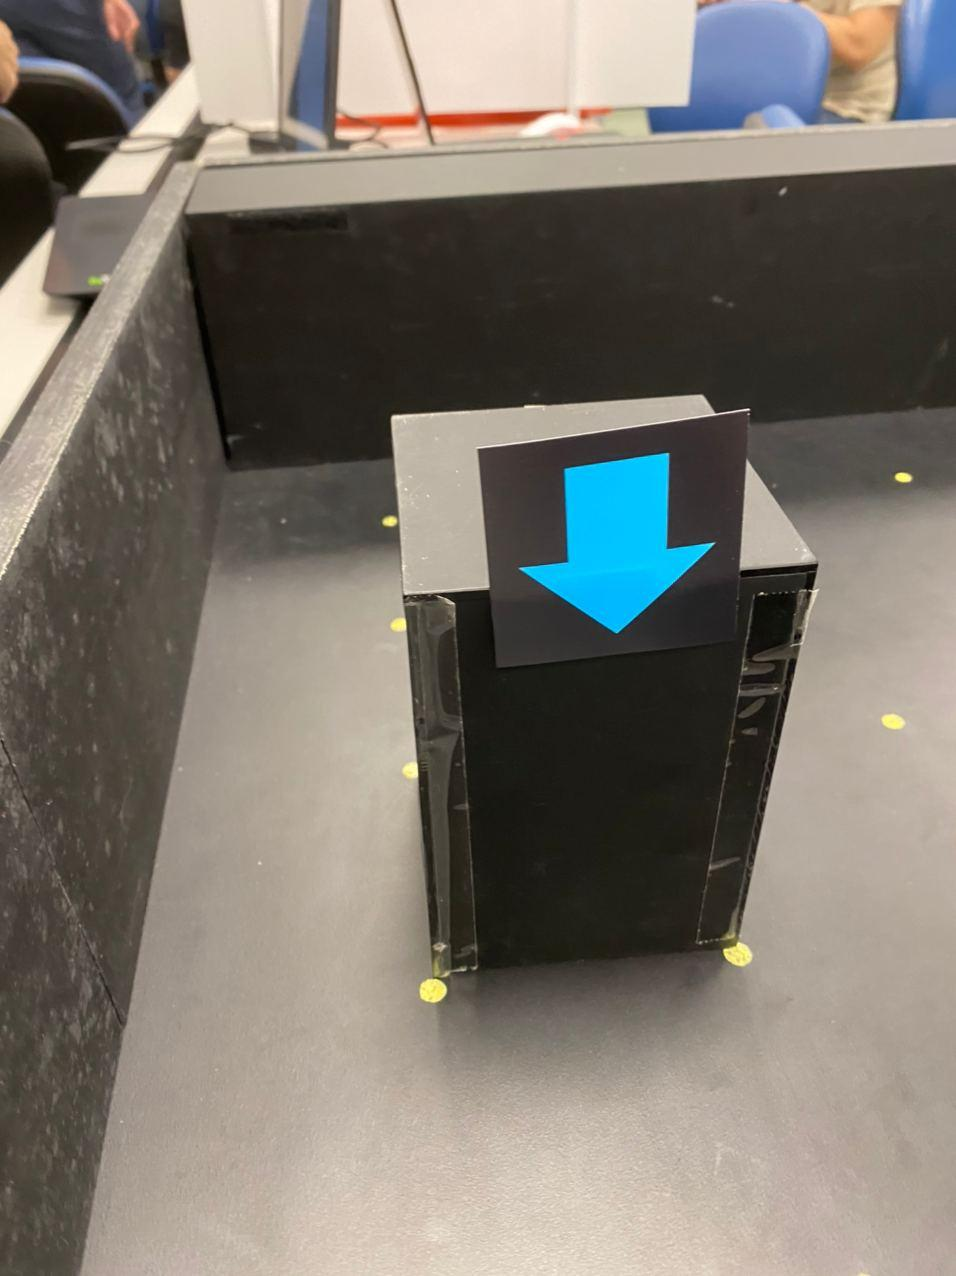down: (517, 456, 719, 636)
